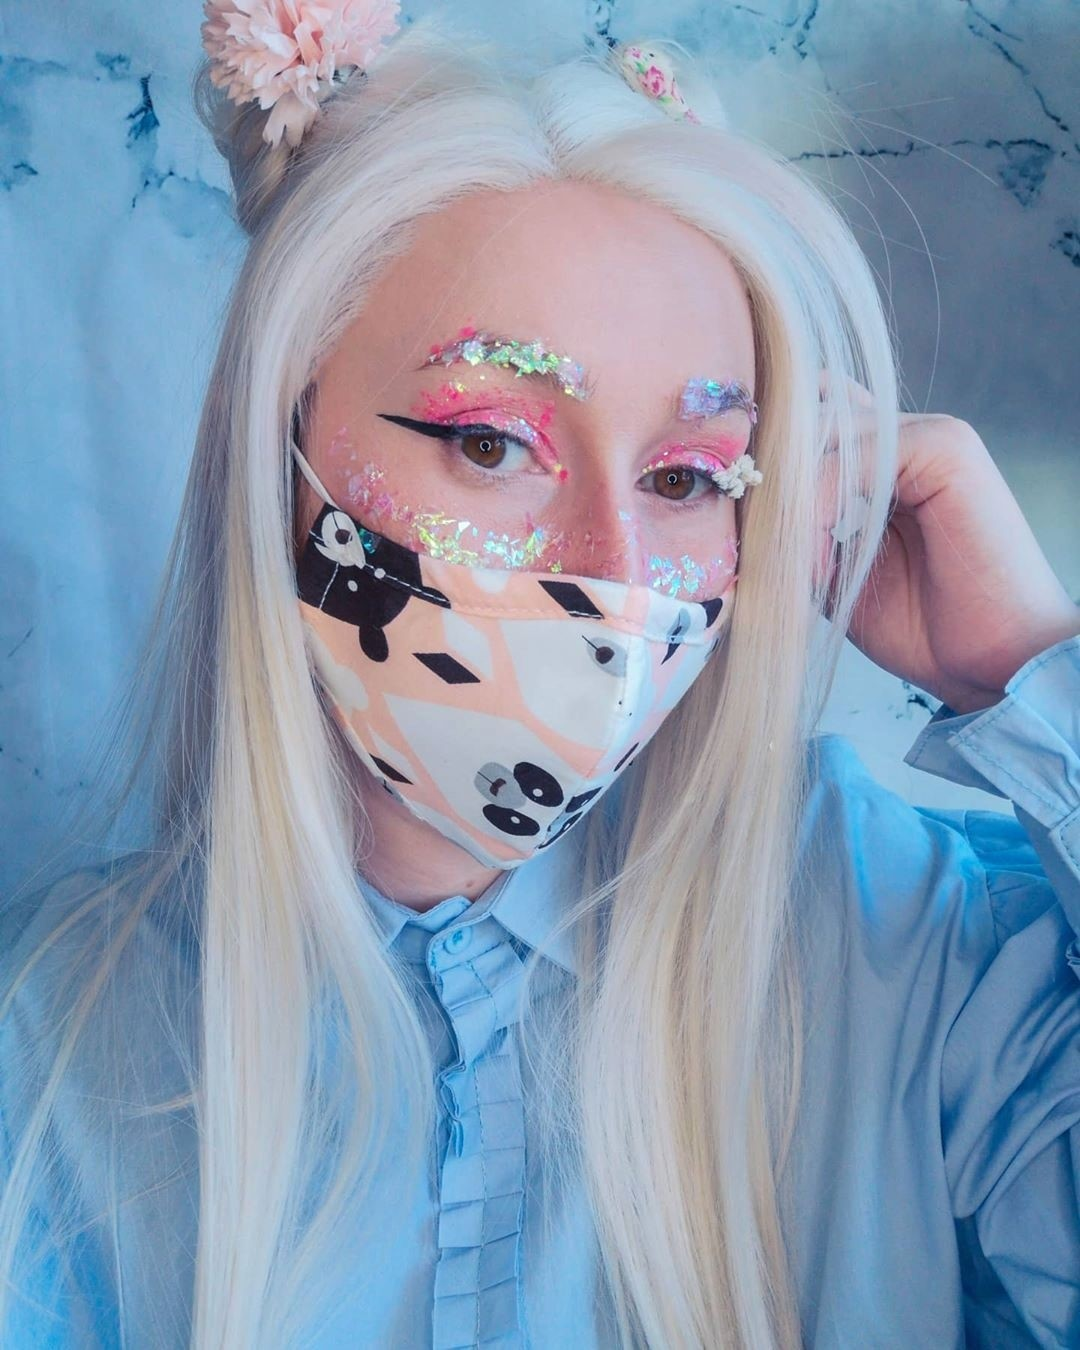face_with_mask: (262, 180, 788, 932)
